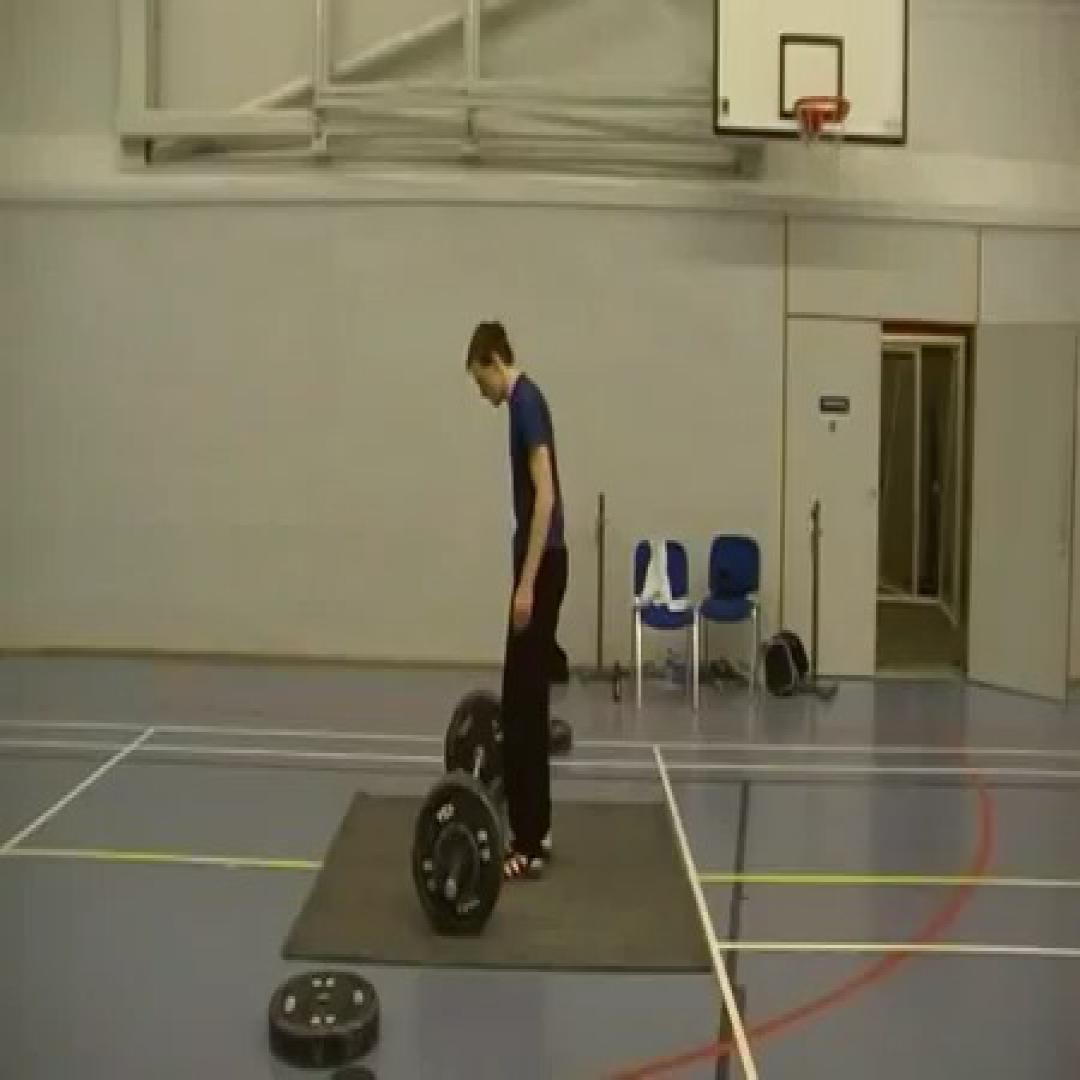Bar: (441, 876, 460, 903)
Barbell: (410, 777, 502, 938)
